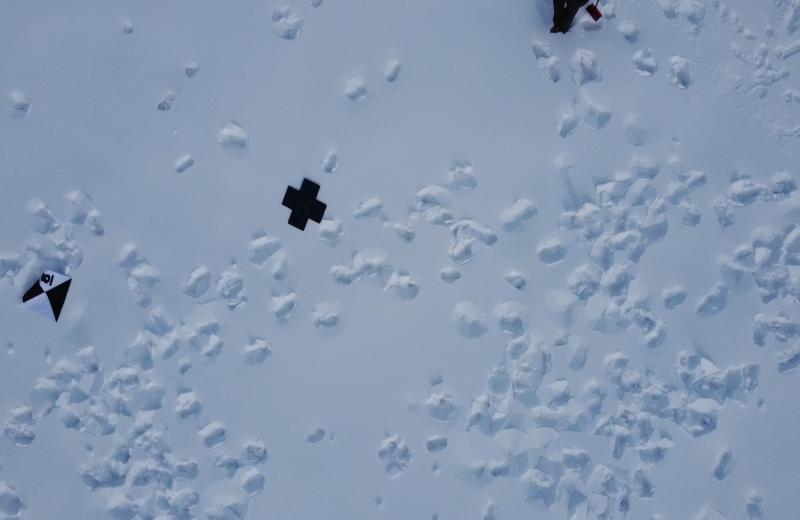Cross: (282, 177, 326, 232)
